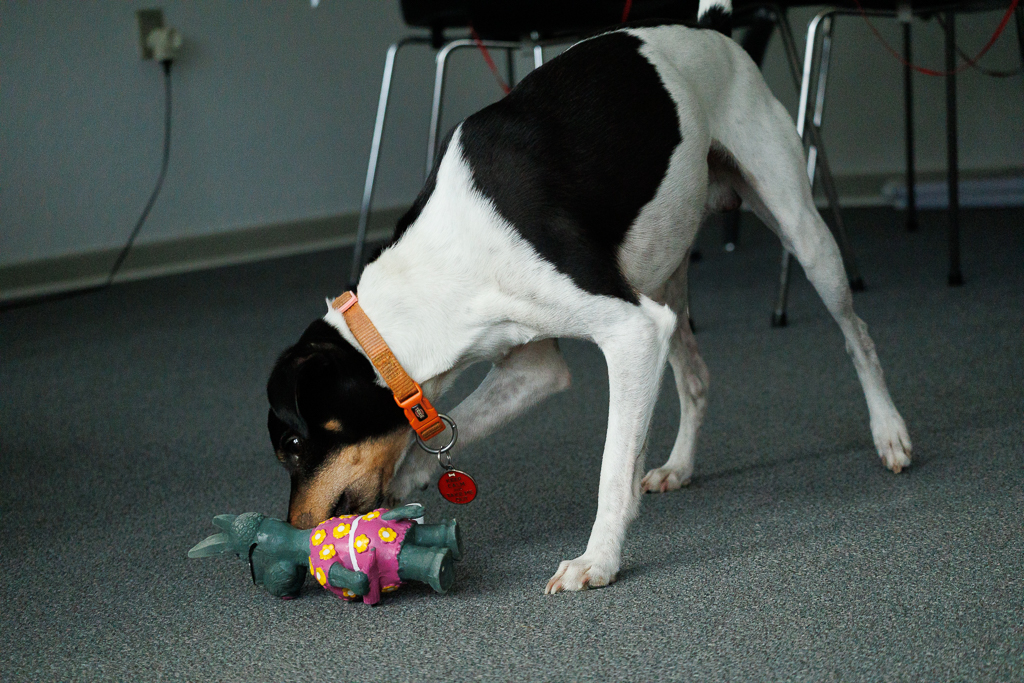Dog: (251, 0, 924, 606)
Humanoid: (177, 503, 480, 613)
